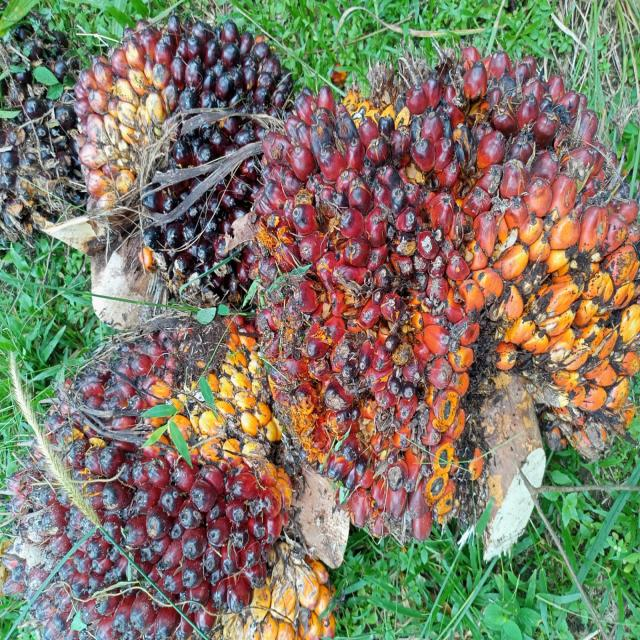fraksi 00: (61, 0, 306, 300)
fraksi 1: (0, 266, 366, 640)
fraksi 3: (242, 48, 640, 570)
